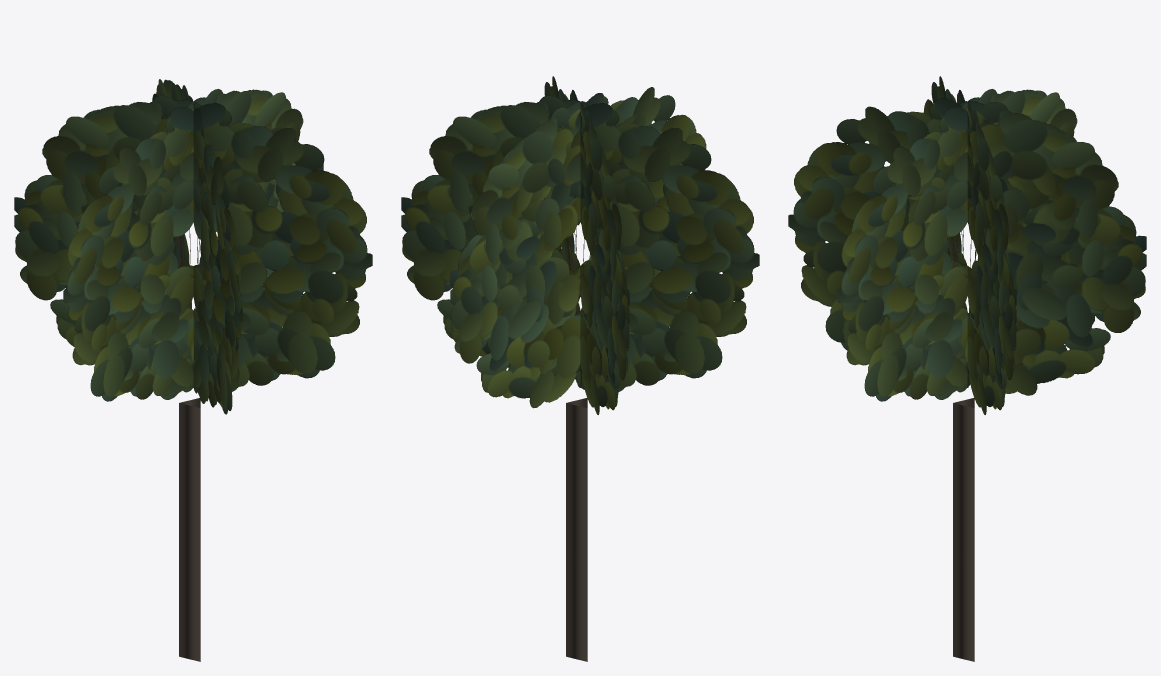
File: tpl_hz_treebelts_old.glb
3 renders of one model, left to right at view 1: azimuth 30°, elevation 25°; view 2: azimuth 150°, elevation 25°; view 3: azimuth 270°, elevation 25°, orthographic.
Visible parts, largest first — view 1: tpl_hz_treebelts_old; view 2: tpl_hz_treebelts_old; view 3: tpl_hz_treebelts_old.
Part boxes in pixels (<box>): tpl_hz_treebelts_old: <box>14,79,372,661</box>; tpl_hz_treebelts_old: <box>401,76,759,661</box>; tpl_hz_treebelts_old: <box>788,76,1146,661</box>.
Size of the model in its own units: 8.68 by 15.2 by 8.71.
Materials: 2 (1 with a texture image).
